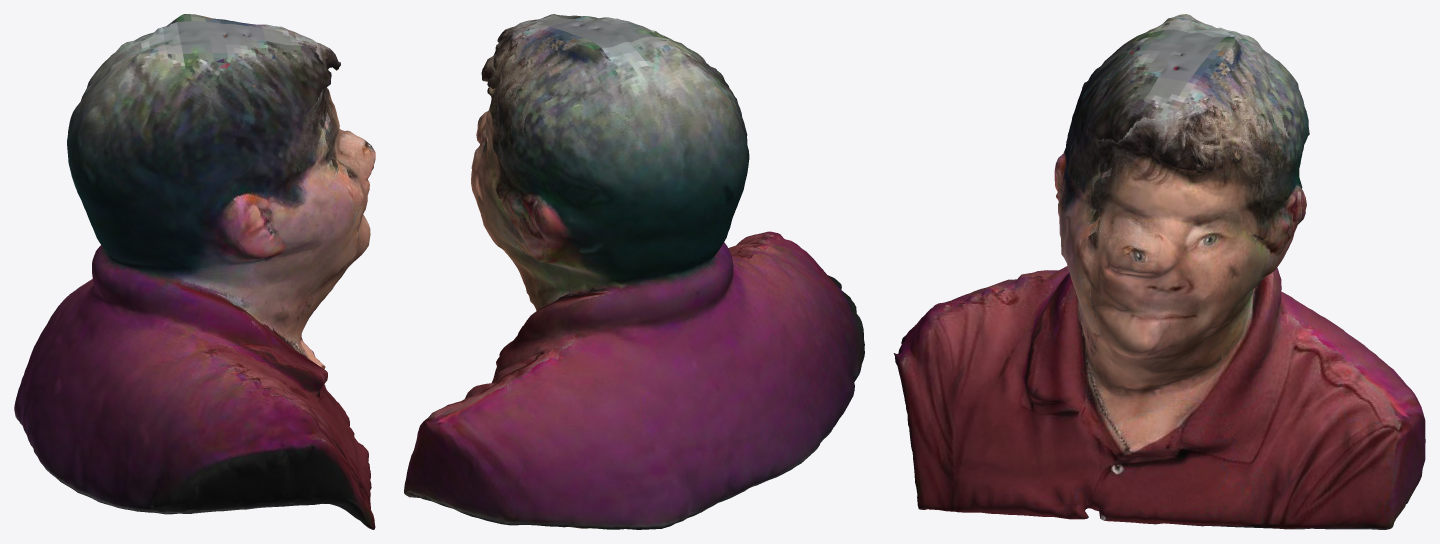
Rendered from cursed_rick.fbx.
The picture shows the model from 3 angles, left to right: view 1: azimuth 30°, elevation 25°; view 2: azimuth 150°, elevation 25°; view 3: azimuth 270°, elevation 25°; orthographic projection. The views are drawn at different scales.
Parts seen in each view (by area): view 1: Mesh1; view 2: Mesh1; view 3: Mesh1.
Part boxes in pixels (bbox=[...]): Mesh1: bbox=[14, 14, 375, 529]; Mesh1: bbox=[404, 14, 864, 529]; Mesh1: bbox=[893, 14, 1425, 529].
Size of the model in its own units: 87.86 by 114 by 120.
1 material, 1 textured.
